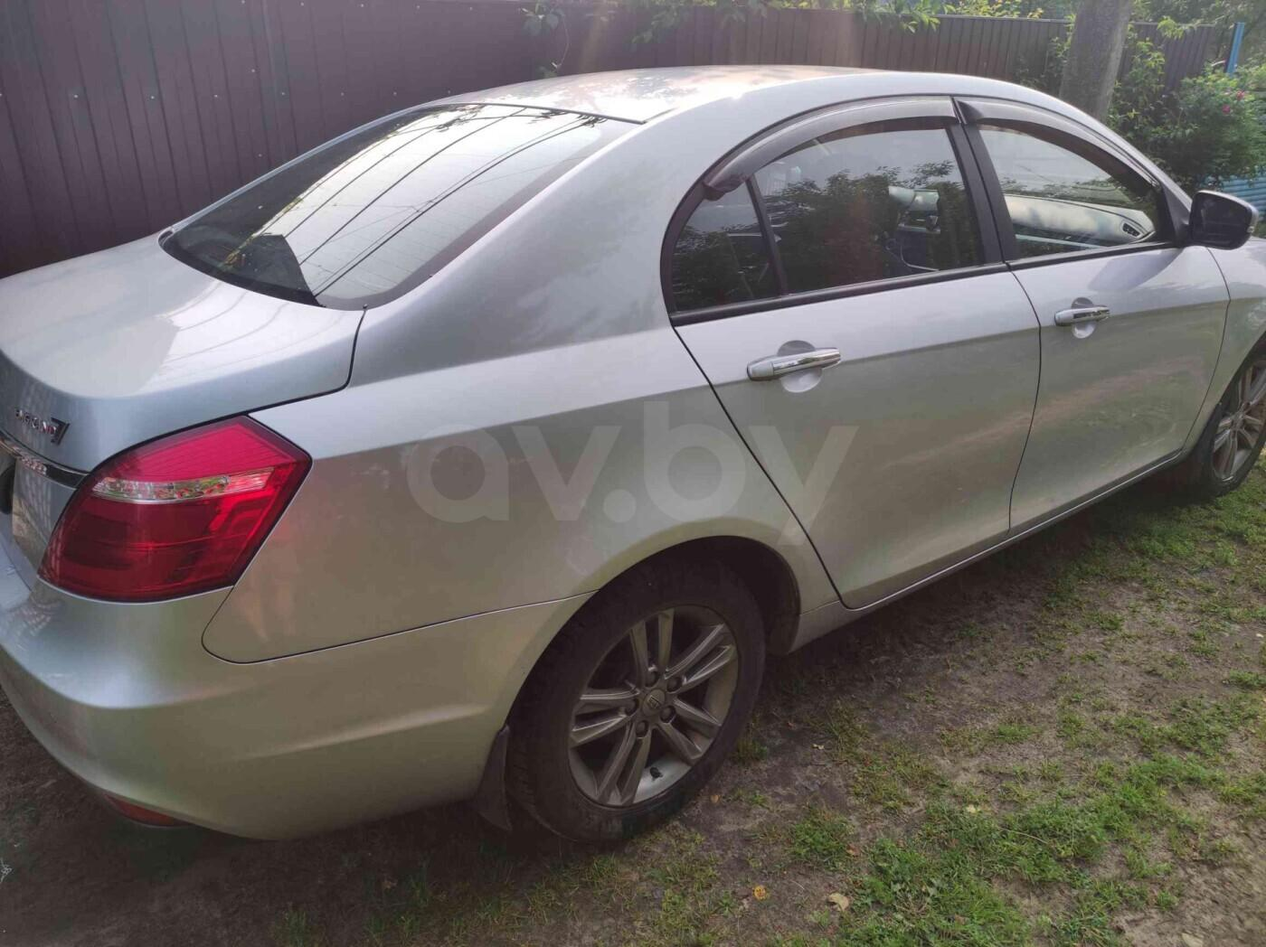Emgrand_2019-2021: (0, 66, 1265, 840)
